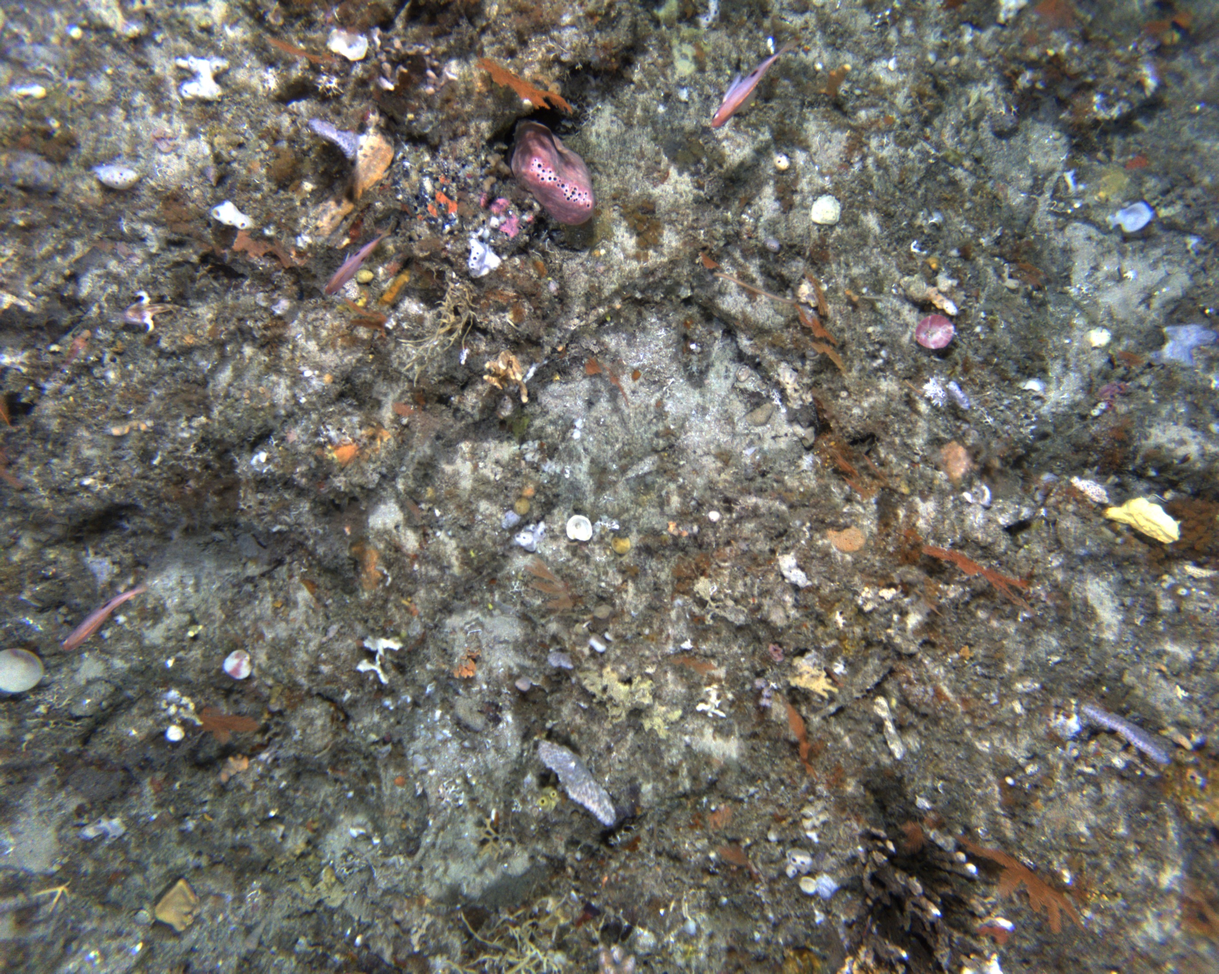Brachionichthyidae: (120, 289, 212, 336)
